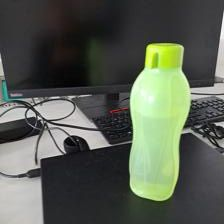bottle: (125, 40, 193, 202)
